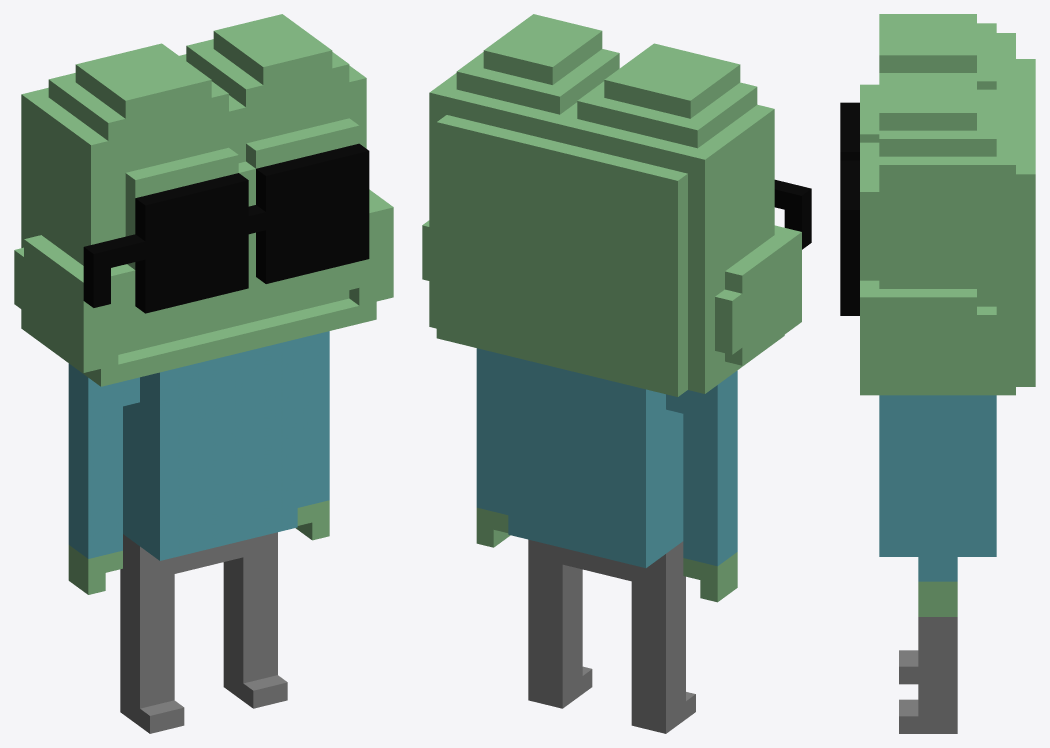
File: FrogGLBTest.glb
3 renders of one model, left to right at view 1: azimuth 30°, elevation 25°; view 2: azimuth 150°, elevation 25°; view 3: azimuth 270°, elevation 25°, orthographic.
Parts seen in each view (by area): view 1: Head, body, Glasses, pants, shoes; view 2: Head, body, pants, shoes, Glasses; view 3: Head, body, Glasses, pants, shoes.
Boxes of the visible parts, x1,y1,x2,y2 form: Head: (14,14,393,594); body: (68,331,329,560); Glasses: (83,143,369,313); pants: (120,532,277,708); shoes: (120,669,287,733); Head: (422,14,801,602); body: (476,348,737,568); pants: (528,539,685,715); shoes: (528,666,695,733); Glasses: (774,179,811,249); Head: (860,14,1035,616); body: (879,395,996,581); Glasses: (840,102,859,315); pants: (918,617,957,716); shoes: (899,650,957,733).
Size of the model in its own units: 0.18 by 0.36 by 0.1.
